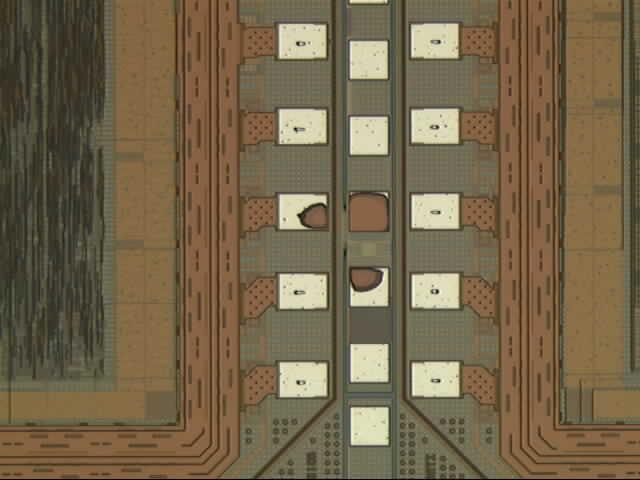BLOCK ETCH: (294, 185, 397, 298)
